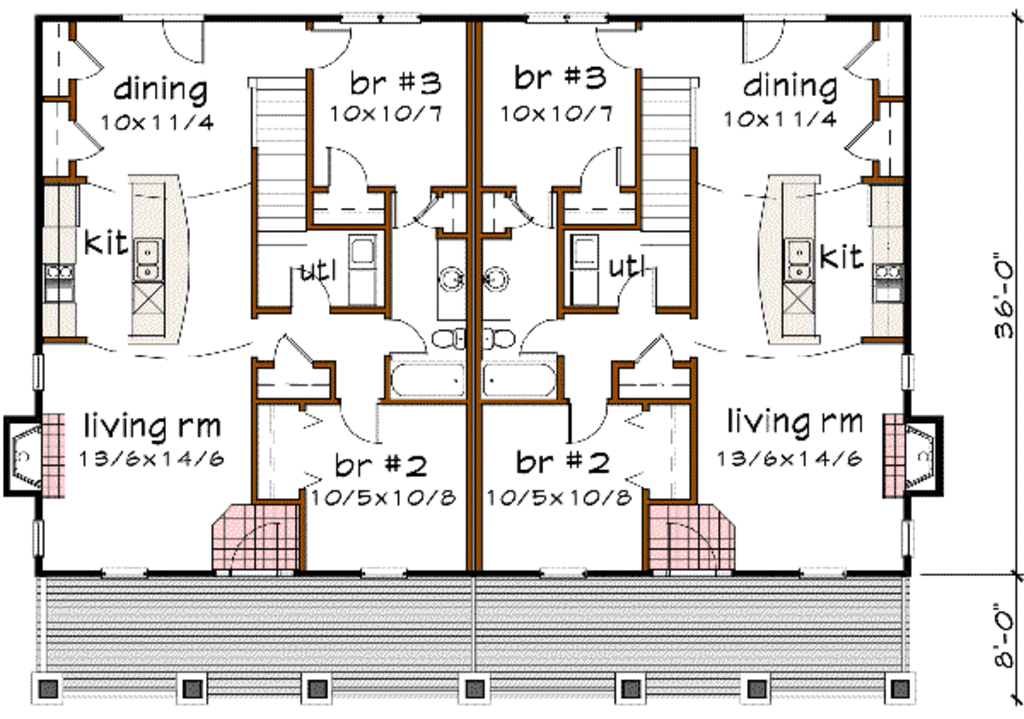door: (152, 15, 214, 71), (301, 18, 357, 71), (336, 396, 390, 447), (566, 143, 625, 189), (280, 258, 331, 311), (320, 138, 375, 187), (611, 259, 662, 310), (835, 110, 882, 163), (566, 400, 612, 446), (391, 186, 438, 231), (736, 23, 784, 67), (629, 331, 681, 370), (595, 21, 639, 67), (64, 36, 107, 83), (845, 29, 882, 83), (269, 335, 326, 366), (518, 315, 561, 356), (514, 189, 552, 230), (421, 190, 457, 231), (68, 117, 101, 161), (390, 318, 427, 354), (496, 193, 528, 228)
kitchen_bar: (748, 166, 835, 356), (118, 164, 190, 344)
large_sink: (475, 317, 522, 356), (430, 319, 467, 357)
small_sink: (436, 261, 464, 308), (484, 258, 510, 297)
stairs: (637, 73, 707, 264), (249, 71, 311, 243)
tub: (479, 351, 562, 401), (388, 356, 470, 403)
twin_sink: (126, 234, 164, 281), (784, 231, 815, 287)
window: (524, 5, 610, 28), (120, 6, 202, 26), (339, 7, 424, 24), (351, 560, 407, 584), (532, 561, 590, 583), (98, 561, 160, 581), (27, 347, 48, 391), (27, 524, 51, 558), (800, 564, 848, 581), (900, 351, 915, 393), (898, 518, 914, 557)
